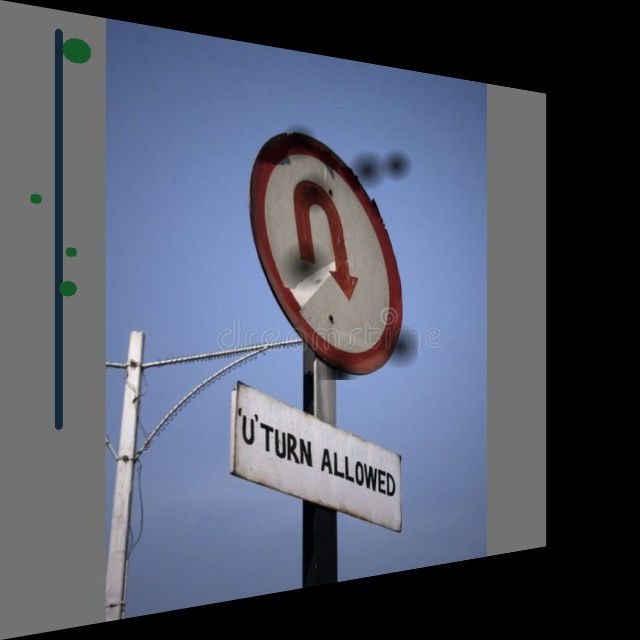U_Turn_Ahead: (252, 115, 418, 380)
